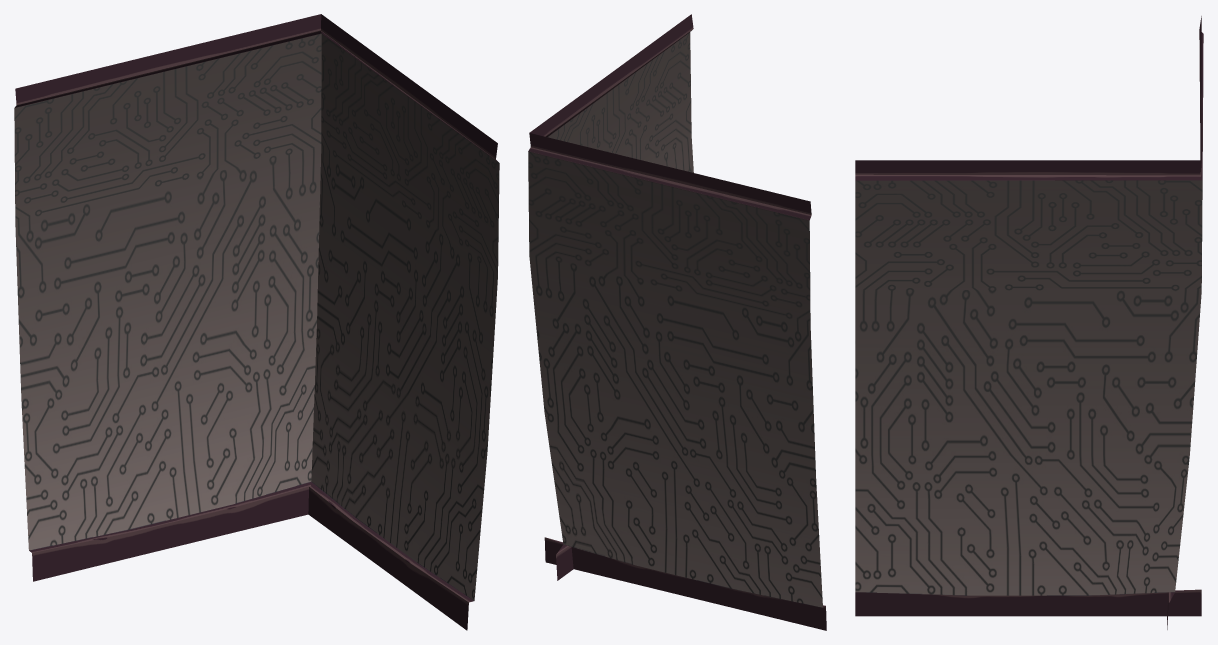
File: Wall2x3InnerMinimal.fbx
3 renders of one model, left to right at view 1: azimuth 30°, elevation 25°; view 2: azimuth 150°, elevation 25°; view 3: azimuth 270°, elevation 25°, orthographic. The views are drawn at different scales.
Visible parts, largest first — view 1: Wall_2x3InnerMinimal; view 2: Wall_2x3InnerMinimal; view 3: Wall_2x3InnerMinimal.
Boxes of the visible parts, box(x1,y1,x2,y2) form: Wall_2x3InnerMinimal: box(14, 14, 499, 630); Wall_2x3InnerMinimal: box(528, 14, 826, 630); Wall_2x3InnerMinimal: box(855, 16, 1203, 629).
Bounding box in the file's own units: 201 × 300 × 201.
